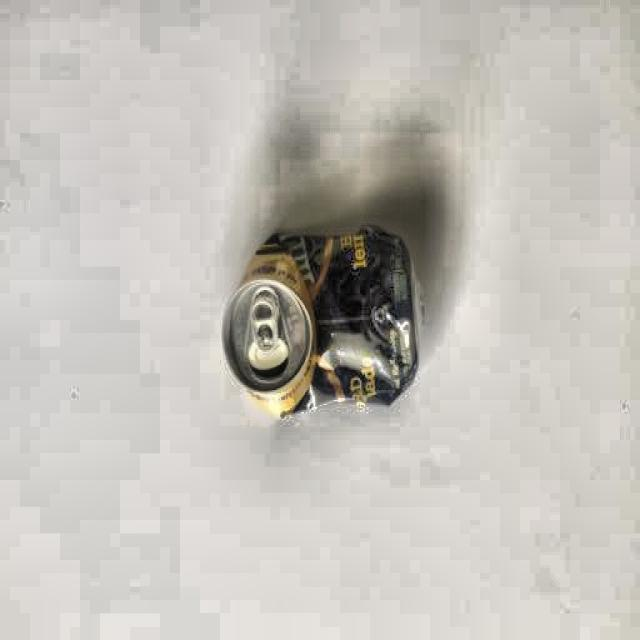metal: (223, 229, 425, 424)
